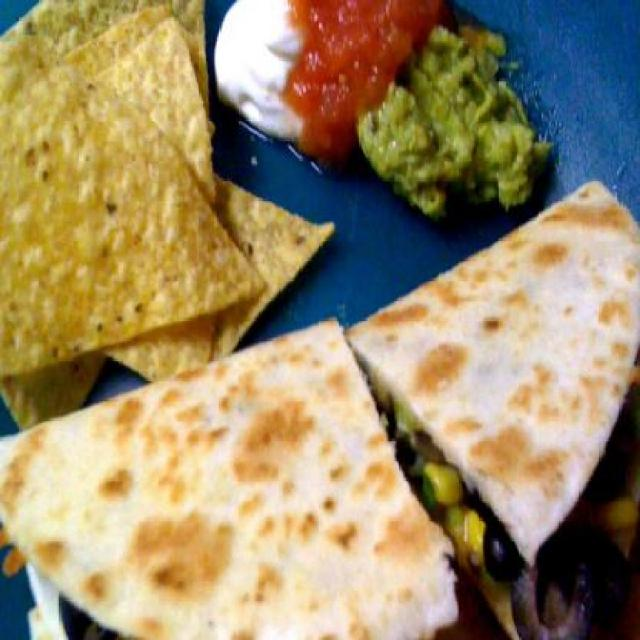guacamole: (348, 15, 558, 218)
nachos: (1, 1, 321, 404)
